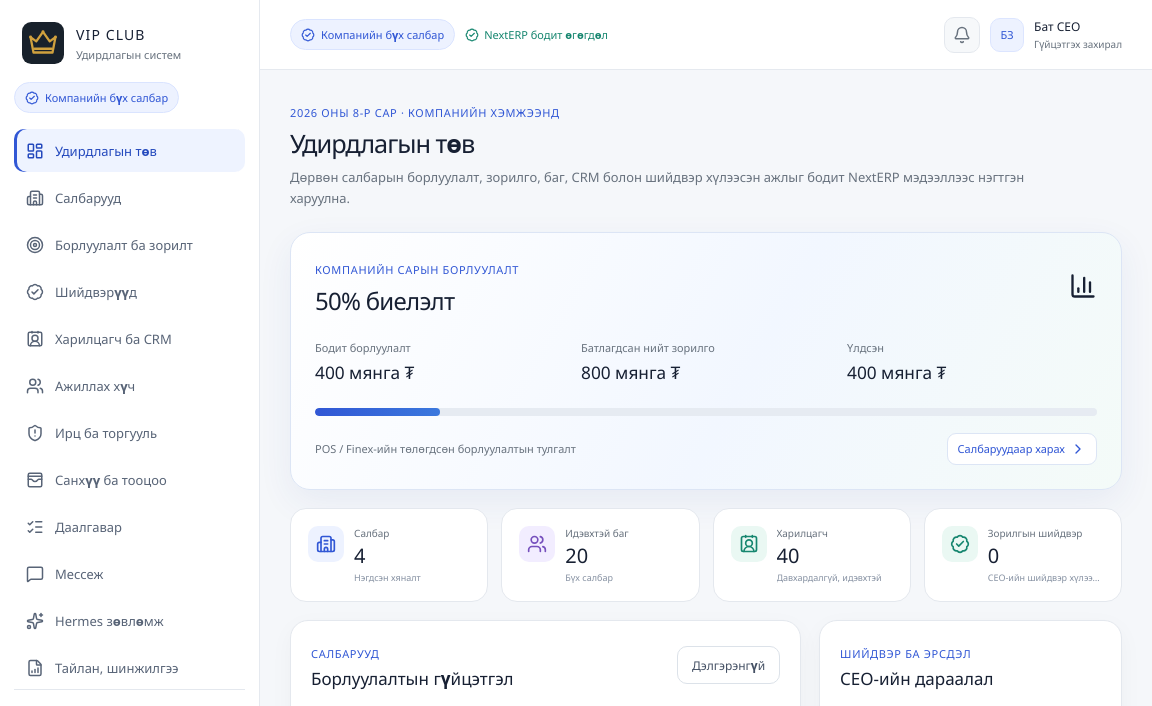
Test: live role-aware management application › shows a dedicated CEO sales-goal screen instead of repeating the branch screen
Expected: the heading "Удирдлагын төв" is shown, 290,126 -> 474,160
Click the button "Борлуулалт ба зорилт" at (130, 244), box 14,223 -> 245,266
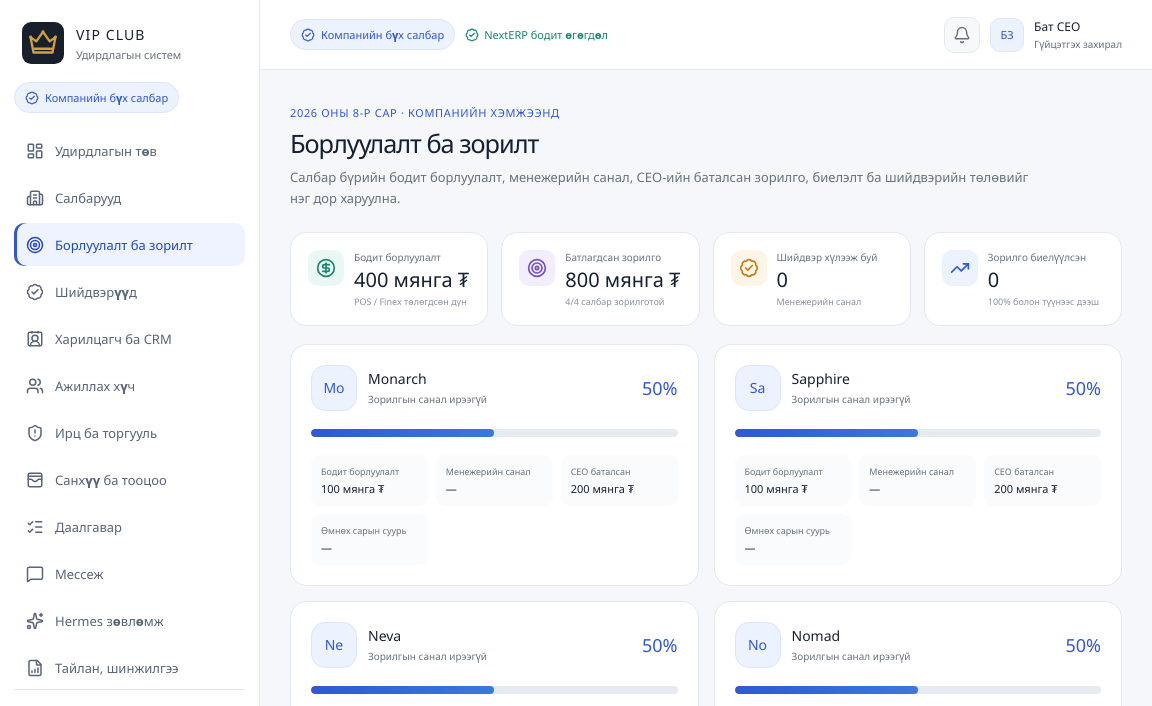
Now the heading "Борлуулалт ба зорилт" is shown, box 290,126 -> 538,160
Now the text "Менежерийн санал" below "Шийдвэр хүлээж буй" is shown, box 776,295 -> 861,308
